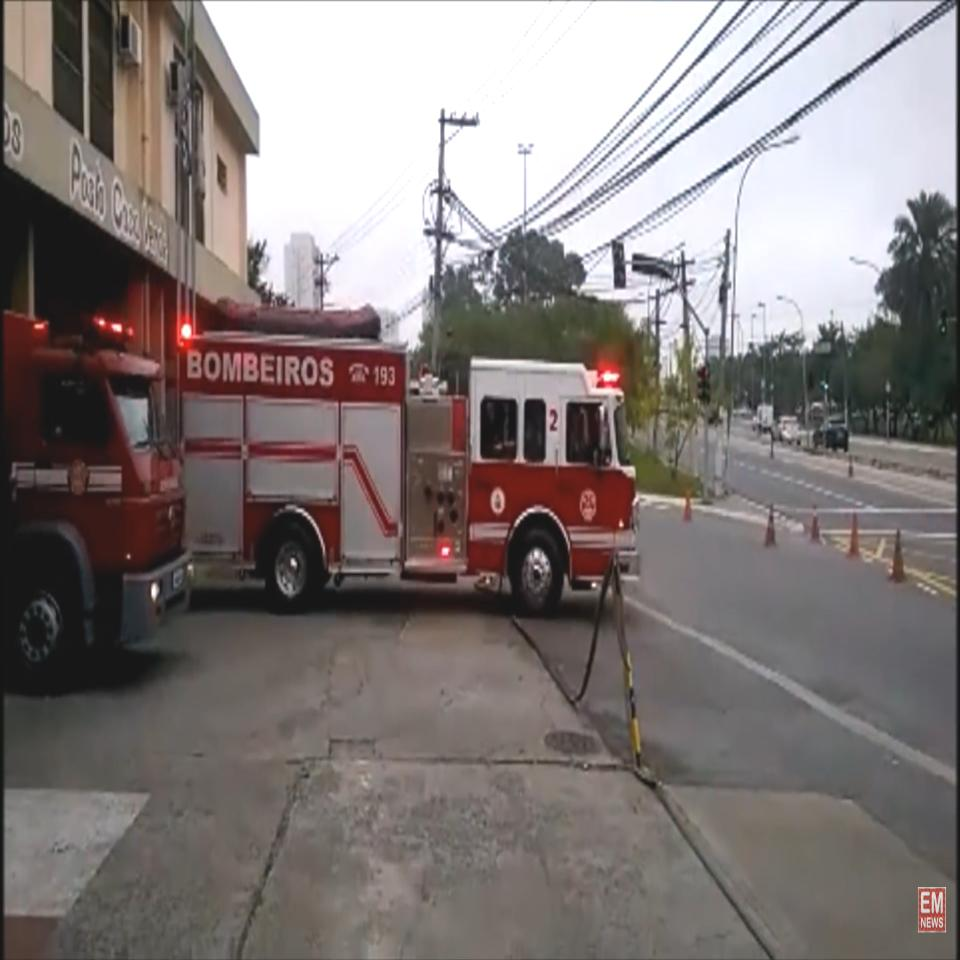bombeiro: (176, 303, 641, 617), (0, 309, 197, 695)
